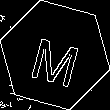M_N: (26, 25, 84, 85)
